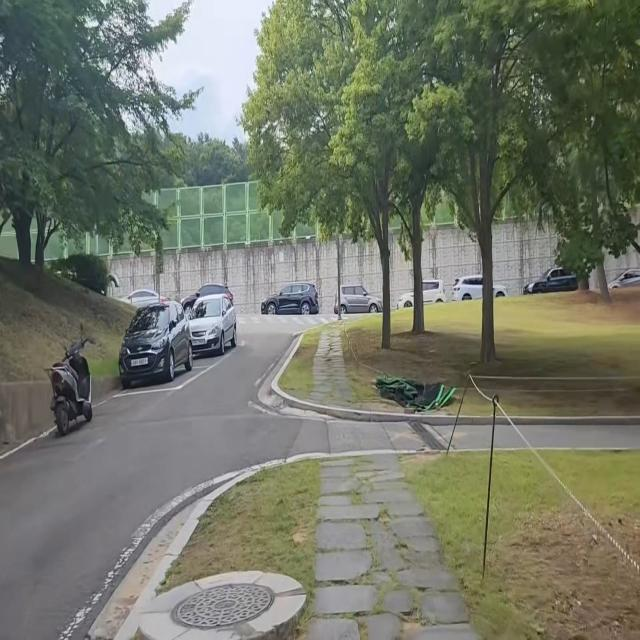obstacle: (113, 289, 246, 394), (42, 319, 103, 449)
road: (0, 319, 317, 640)
sidewalk: (308, 452, 488, 640), (312, 327, 358, 421)
